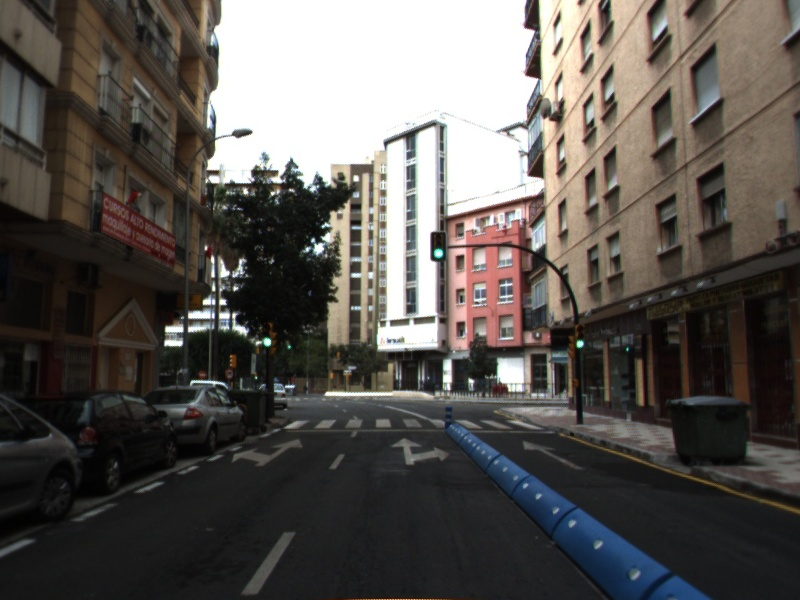STRAIGHT: (521, 438, 587, 472)
STRAIGHT_LEFT: (229, 436, 305, 468)
STRAIGHT_RIGHT: (389, 435, 453, 467)
